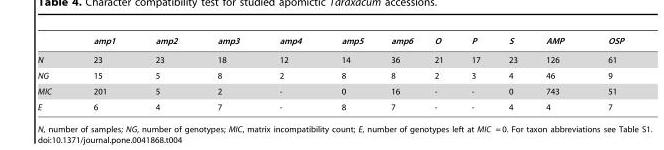table: (37, 36, 624, 111)
table column: (71, 36, 135, 111), (135, 36, 197, 111), (197, 36, 259, 111), (259, 36, 321, 111), (321, 36, 377, 111), (530, 36, 585, 111), (377, 36, 423, 111), (585, 36, 624, 111), (456, 36, 493, 111), (493, 36, 530, 111), (37, 36, 71, 111), (423, 36, 456, 111)
table column header: (37, 36, 624, 50)
table row: (37, 50, 624, 67), (37, 67, 624, 83), (37, 83, 624, 99), (37, 36, 624, 50), (37, 99, 624, 111)
